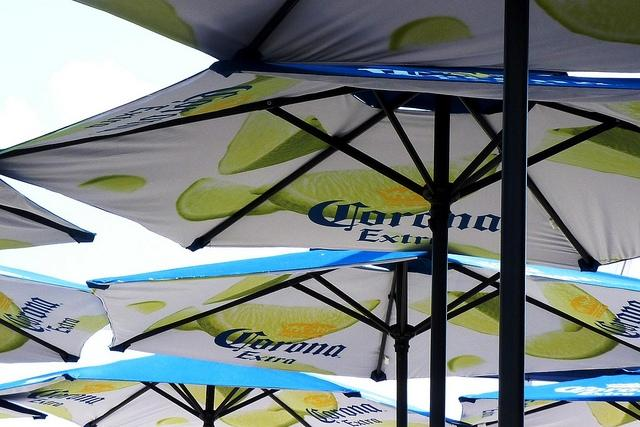lime: (248, 153, 500, 220), (525, 276, 625, 360), (218, 110, 332, 175), (198, 303, 360, 342), (79, 0, 199, 51), (535, 124, 640, 180), (181, 75, 304, 117), (176, 178, 284, 222), (534, 0, 640, 44), (408, 292, 499, 336), (389, 15, 473, 51), (202, 274, 294, 305), (160, 382, 251, 410), (266, 390, 338, 419), (0, 291, 30, 353), (30, 379, 140, 394), (258, 355, 339, 375), (142, 306, 201, 332), (219, 409, 300, 427), (586, 401, 640, 427), (74, 174, 147, 192), (52, 314, 110, 335), (448, 242, 500, 260), (602, 101, 640, 122), (31, 403, 72, 421), (448, 354, 486, 372), (127, 301, 165, 314), (0, 238, 36, 250), (172, 320, 208, 332), (379, 420, 429, 427), (156, 416, 188, 426), (525, 400, 558, 407), (460, 415, 484, 424), (2, 414, 18, 418)
